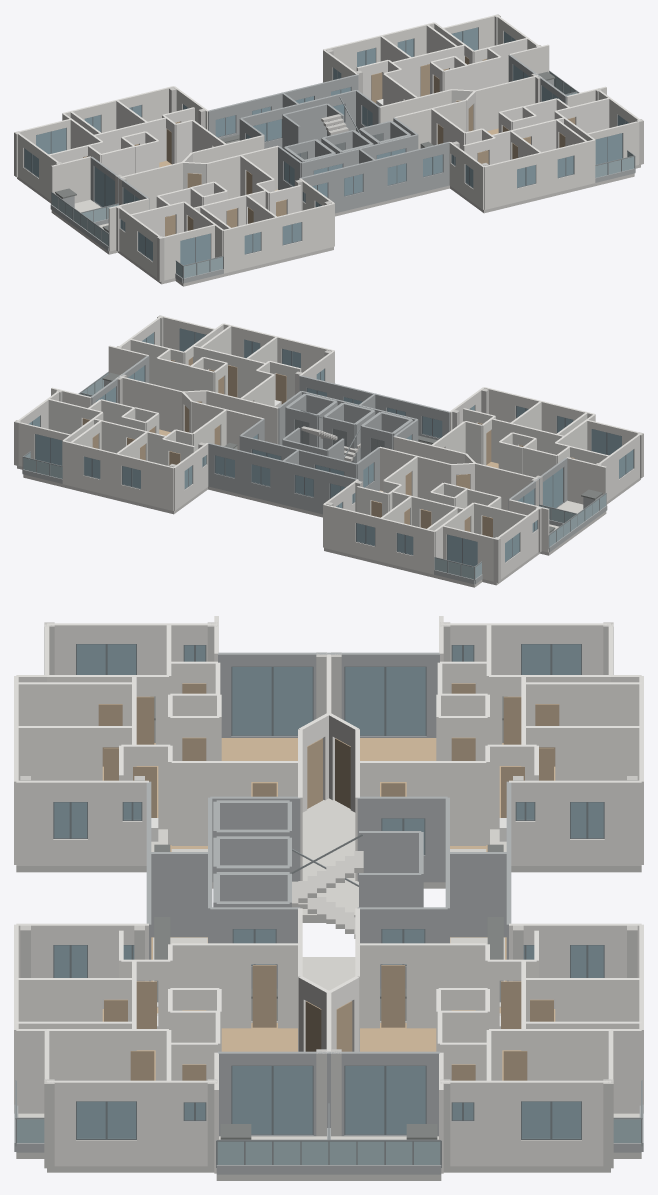
File: Firenze_Grupo15_Pavimento_Tipo.glb
3 renders of one model, top to bottom at view 1: azimuth 30°, elevation 25°; view 2: azimuth 150°, elevation 25°; view 3: azimuth 270°, elevation 25°, orthographic. The views are drawn at different scales.
Visible parts, largest first — view 1: APARTAMENTO_03/U3_Paredes__Fachada_marfin, APARTAMENTO_04/U4_Paredes__Fachada_marfin, APARTAMENTO_01/U1_Paredes__Fachada_marfin, APARTAMENTO_02/U2_Paredes__Fachada_marfin, APARTAMENTO_02/U2_Paredes__Paredes_internas, APARTAMENTO_01/U1_Paredes__Paredes_internas, APARTAMENTO_04/U4_Paredes__Paredes_internas, APARTAMENTO_03/U3_Paredes__Paredes_internas, APARTAMENTO_04/U4_Paredes__Fachada_cinza, APARTAMENTO_03/U3_Paredes__Fachada_cinza, APARTAMENTO_01/U1_Paredes__Fachada_cinza, APARTAMENTO_03/U3_Janelas_vidros__Vidro_azul (+22 smaller); view 2: APARTAMENTO_01/U1_Paredes__Fachada_marfin, APARTAMENTO_02/U2_Paredes__Fachada_marfin, APARTAMENTO_03/U3_Paredes__Fachada_marfin, APARTAMENTO_04/U4_Paredes__Paredes_internas, APARTAMENTO_03/U3_Paredes__Paredes_internas, APARTAMENTO_02/U2_Paredes__Paredes_internas, APARTAMENTO_04/U4_Paredes__Fachada_marfin, APARTAMENTO_01/U1_Paredes__Paredes_internas, APARTAMENTO_02/U2_Paredes__Fachada_cinza, APARTAMENTO_01/U1_Paredes__Fachada_cinza, APARTAMENTO_01/U1_Janelas_vidros__Vidro_azul, APARTAMENTO_02/U2_Janelas_vidros__Vidro_azul (+24 smaller); view 3: APARTAMENTO_01/U1_Paredes__Paredes_internas, APARTAMENTO_03/U3_Paredes__Paredes_internas, APARTAMENTO_04/U4_Paredes__Paredes_internas, APARTAMENTO_02/U2_Paredes__Paredes_internas, APARTAMENTO_02/U2_Paredes__Fachada_marfin, APARTAMENTO_04/U4_Paredes__Fachada_marfin, APARTAMENTO_01/U1_Paredes__Fachada_marfin, APARTAMENTO_03/U3_Paredes__Fachada_marfin, APARTAMENTO_01/U1_Paredes__Fachada_cinza, APARTAMENTO_02/U2_Janelas_vidros__Vidro_azul, APARTAMENTO_04/U4_Janelas_vidros__Vidro_azul, APARTAMENTO_04/U4_Paredes__Fachada_cinza (+35 smaller).
Boxes of the visible parts, bbox=[...] form: APARTAMENTO_03/U3_Paredes__Fachada_marfin: bbox=[108, 145, 334, 280]; APARTAMENTO_04/U4_Paredes__Fachada_marfin: bbox=[393, 76, 641, 209]; APARTAMENTO_01/U1_Paredes__Fachada_marfin: bbox=[16, 86, 264, 209]; APARTAMENTO_02/U2_Paredes__Fachada_marfin: bbox=[323, 15, 549, 130]; APARTAMENTO_02/U2_Paredes__Paredes_internas: bbox=[356, 24, 527, 105]; APARTAMENTO_01/U1_Paredes__Paredes_internas: bbox=[48, 100, 225, 176]; APARTAMENTO_04/U4_Paredes__Paredes_internas: bbox=[431, 91, 609, 164]; APARTAMENTO_03/U3_Paredes__Paredes_internas: bbox=[130, 155, 301, 236]; APARTAMENTO_04/U4_Paredes__Fachada_cinza: bbox=[358, 75, 566, 203]; APARTAMENTO_03/U3_Paredes__Fachada_cinza: bbox=[118, 146, 375, 213]; APARTAMENTO_01/U1_Paredes__Fachada_cinza: bbox=[90, 92, 299, 207]; APARTAMENTO_03/U3_Janelas_vidros__Vidro_azul: bbox=[120, 162, 362, 265]; APARTAMENTO_01/U1_Paredes__Fachada_marfin: bbox=[323, 446, 549, 581]; APARTAMENTO_02/U2_Paredes__Fachada_marfin: bbox=[16, 376, 264, 510]; APARTAMENTO_03/U3_Paredes__Fachada_marfin: bbox=[393, 387, 641, 510]; APARTAMENTO_04/U4_Paredes__Paredes_internas: bbox=[130, 326, 301, 406]; APARTAMENTO_03/U3_Paredes__Paredes_internas: bbox=[432, 401, 609, 477]; APARTAMENTO_02/U2_Paredes__Paredes_internas: bbox=[48, 392, 226, 465]; APARTAMENTO_04/U4_Paredes__Fachada_marfin: bbox=[108, 316, 334, 444]; APARTAMENTO_01/U1_Paredes__Paredes_internas: bbox=[356, 456, 527, 537]; APARTAMENTO_02/U2_Paredes__Fachada_cinza: bbox=[91, 376, 298, 504]; APARTAMENTO_01/U1_Paredes__Fachada_cinza: bbox=[282, 447, 539, 514]; APARTAMENTO_01/U1_Janelas_vidros__Vidro_azul: bbox=[295, 463, 537, 566]; APARTAMENTO_02/U2_Janelas_vidros__Vidro_azul: bbox=[28, 387, 280, 488]; APARTAMENTO_01/U1_Paredes__Paredes_internas: bbox=[327, 624, 641, 845]; APARTAMENTO_03/U3_Paredes__Paredes_internas: bbox=[16, 624, 329, 845]; APARTAMENTO_04/U4_Paredes__Paredes_internas: bbox=[16, 930, 329, 1080]; APARTAMENTO_02/U2_Paredes__Paredes_internas: bbox=[327, 930, 641, 1080]; APARTAMENTO_02/U2_Paredes__Fachada_marfin: bbox=[326, 908, 643, 1173]; APARTAMENTO_04/U4_Paredes__Fachada_marfin: bbox=[14, 908, 330, 1173]; APARTAMENTO_01/U1_Paredes__Fachada_marfin: bbox=[326, 616, 643, 880]; APARTAMENTO_03/U3_Paredes__Fachada_marfin: bbox=[14, 616, 331, 880]; APARTAMENTO_01/U1_Paredes__Fachada_cinza: bbox=[329, 652, 511, 937]; APARTAMENTO_02/U2_Janelas_vidros__Vidro_azul: bbox=[345, 929, 603, 1138]; APARTAMENTO_04/U4_Janelas_vidros__Vidro_azul: bbox=[54, 929, 312, 1138]; APARTAMENTO_04/U4_Paredes__Fachada_cinza: bbox=[146, 852, 328, 1136].
Bounding box in the file's own units: 33.92 × 4.26 × 18.98.
